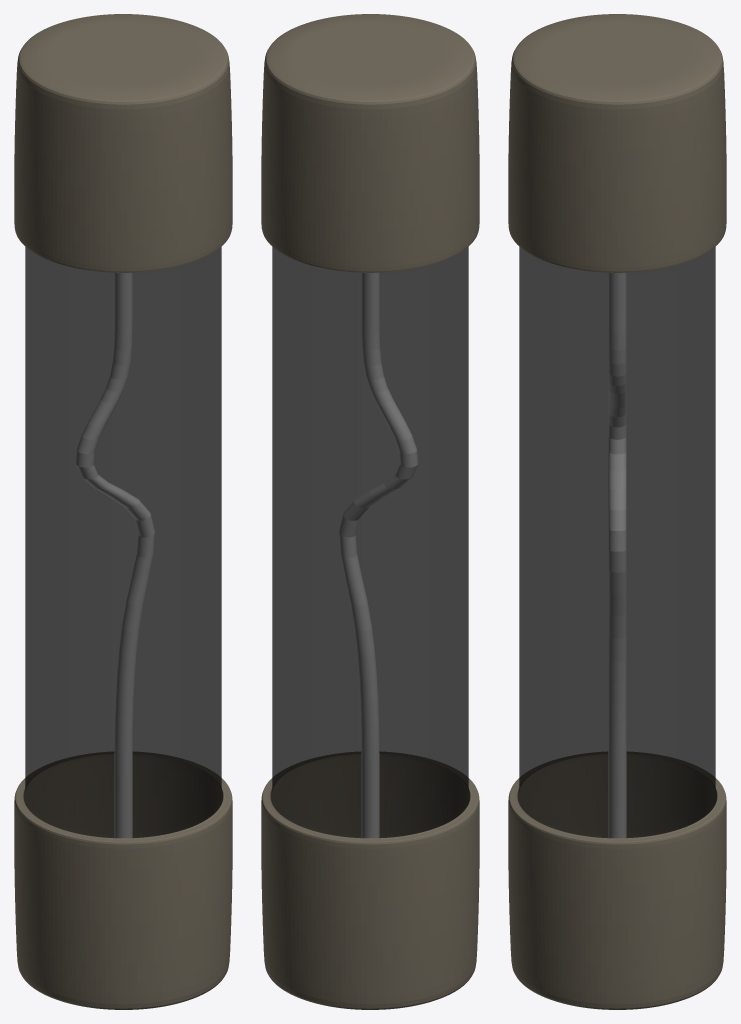
The model's file is Fucibles.fbx.
The picture shows the model from 3 angles, left to right: view 1: azimuth 30°, elevation 25°; view 2: azimuth 150°, elevation 25°; view 3: azimuth 270°, elevation 25°; orthographic projection.
Parts seen in each view (by area): view 1: Circle; view 2: Circle; view 3: Circle.
Part boxes in pixels (x1,y1,x2,y2): Circle: (14,14,232,1009); Circle: (261,14,479,1009); Circle: (508,14,726,1009).
Bounding box in the file's own units: 9.99 × 46.12 × 9.99.
